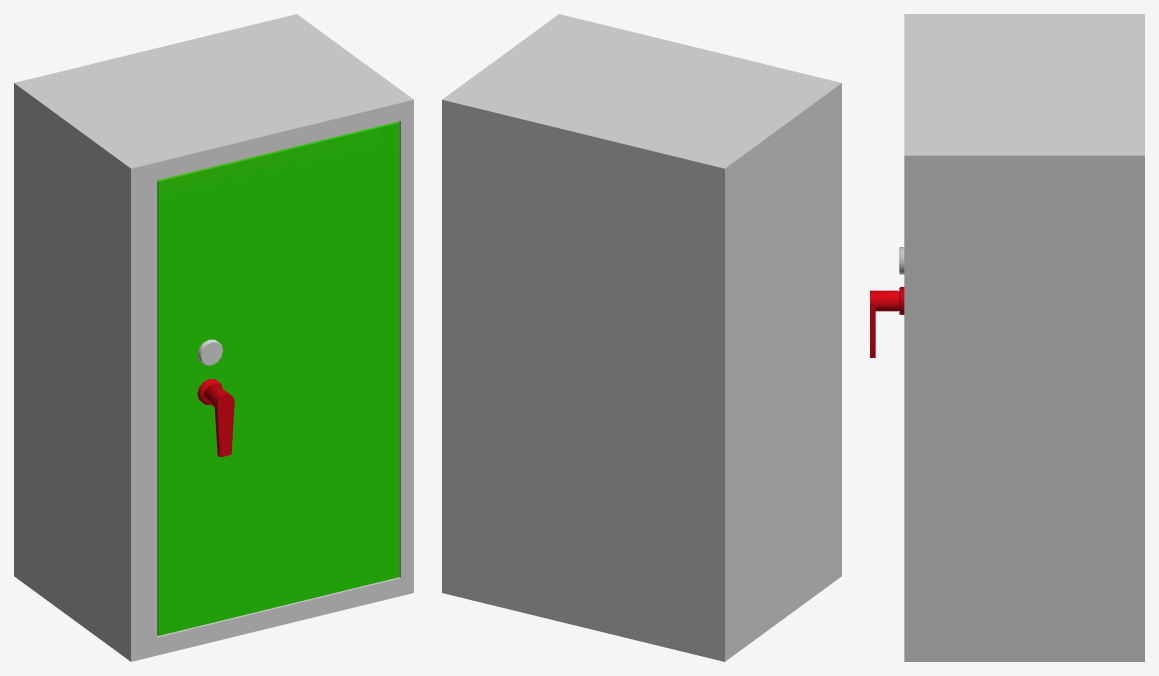
Rendered from safely_stored_T.fbx.
3 views of the same model, side by side, from view 1: azimuth 30°, elevation 25°; view 2: azimuth 150°, elevation 25°; view 3: azimuth 270°, elevation 25° (orthographic). The views are drawn at different scales.
Parts seen in each view (by area): view 1: Structure, Door, handle; view 2: Structure; view 3: Structure, handle.
Boxes of the visible parts, bbox=[...] form: Structure: bbox=[14, 14, 413, 661]; Door: bbox=[157, 121, 399, 635]; handle: bbox=[197, 379, 234, 457]; Structure: bbox=[442, 14, 841, 661]; Structure: bbox=[904, 14, 1144, 661]; handle: bbox=[870, 287, 904, 357].
Size of the model in its own units: 60 by 100 by 49.18.
